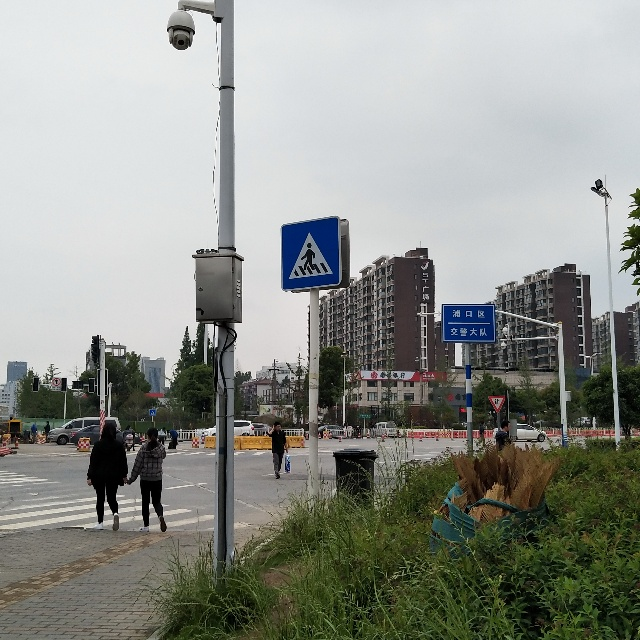crosswalk: (284, 215, 346, 293)
